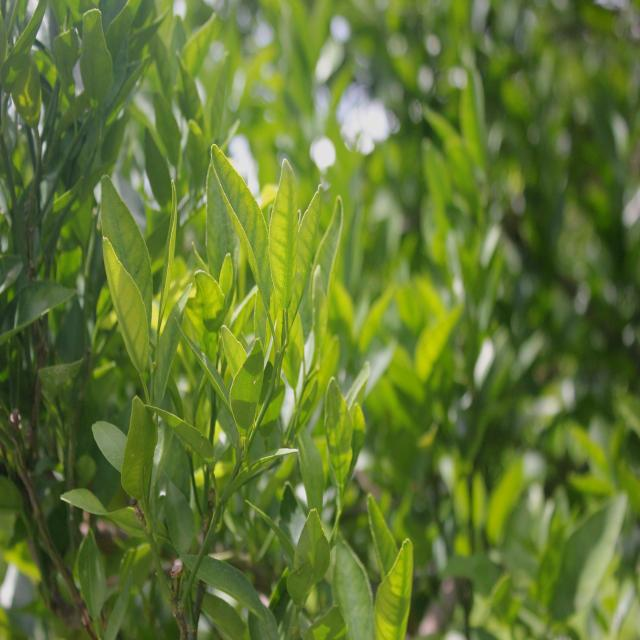greening: (96, 232, 152, 384), (225, 154, 269, 270), (273, 170, 303, 302), (322, 386, 355, 484), (312, 204, 338, 310)
